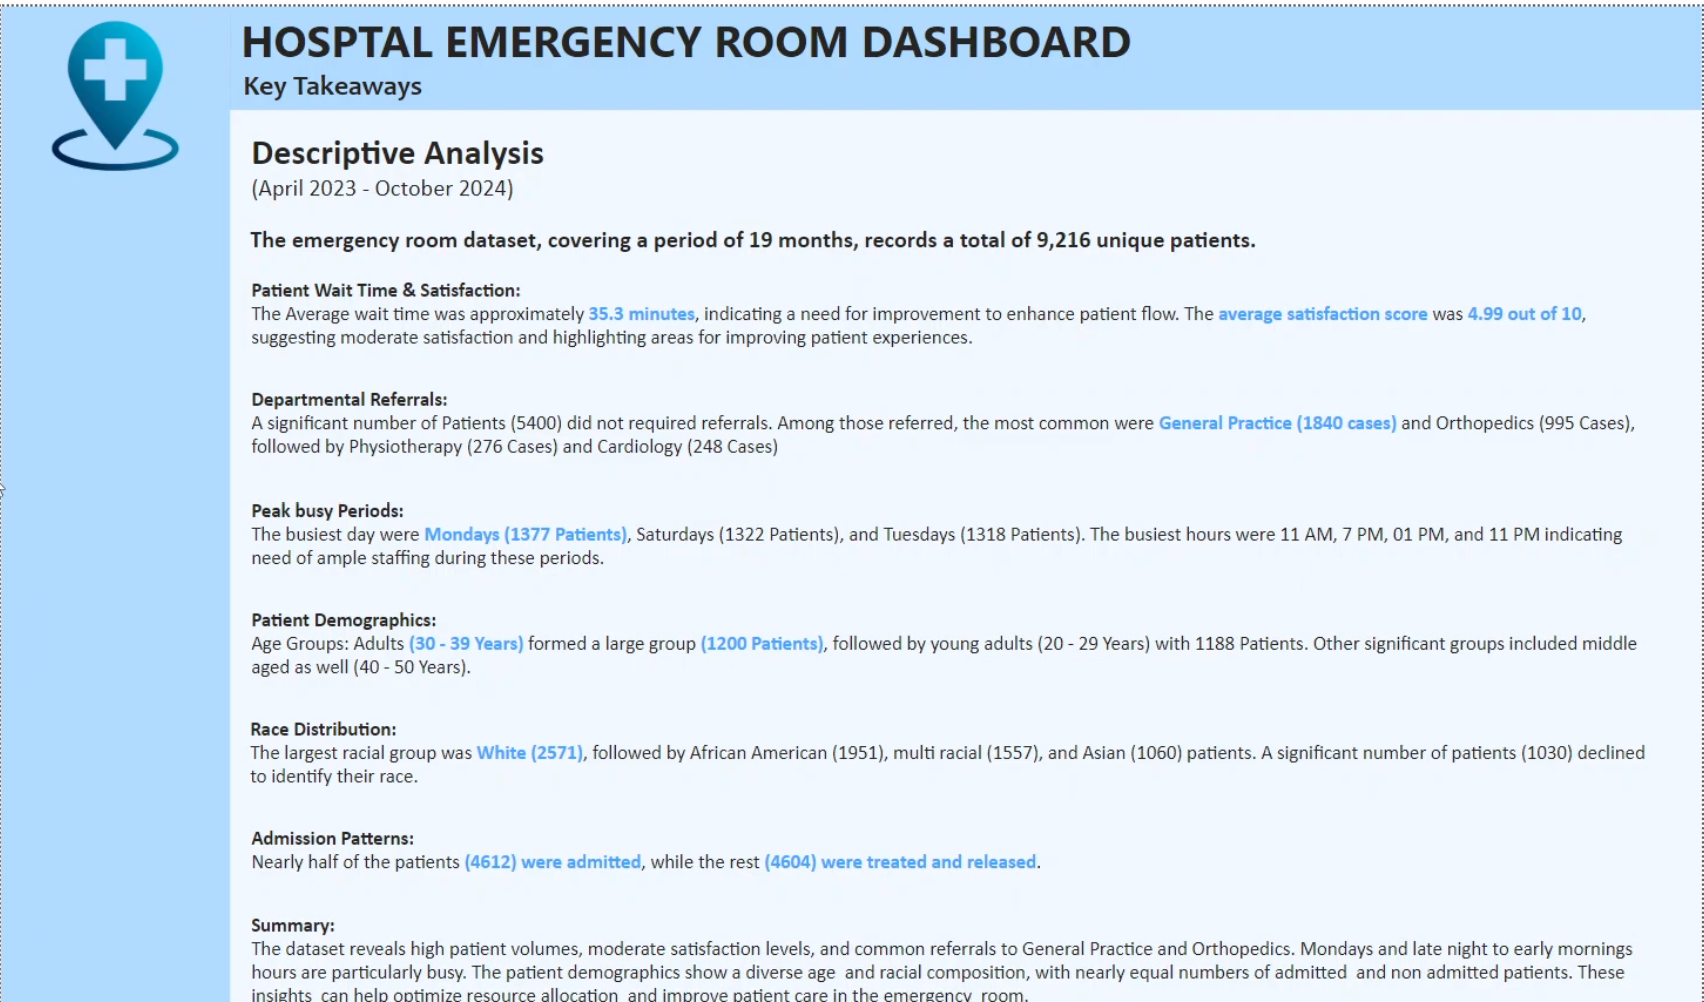

This screenshot's page, from the dashboard's own definition file:
{"tool":"powerbi","page":{"name":"Key Takeaways","canvas":[2300,1400],"ordinal":3},"visuals":[{"type":"shape","box":[0,0,310,1399.4],"z":0},{"type":"shape","box":[309.4,0,1990.6,140],"z":1000},{"type":"textbox","box":[334.8,0,1283.9,92.4],"z":2000},{"type":"textbox","box":[344.2,80.2,388.5,59.1],"z":3000},{"type":"image","box":[21.1,19,261.8,264],"z":4000},{"type":"pageNavigator","box":[21.1,371.6,264,420.2],"z":5000}]}

Visuals, with their boxes on the page's 2300x1400 design canvas (x1, y1, x2, y2). These are canvas units, not pixel positions in the 1704x1002 screenshot, which may show the page scaled, cropped or inside an application window:
shape: (x1=0, y1=0, x2=310, y2=1399)
shape: (x1=309, y1=0, x2=2300, y2=140)
textbox: (x1=335, y1=0, x2=1619, y2=92)
textbox: (x1=344, y1=80, x2=733, y2=139)
image: (x1=21, y1=19, x2=283, y2=283)
pageNavigator: (x1=21, y1=372, x2=285, y2=792)
